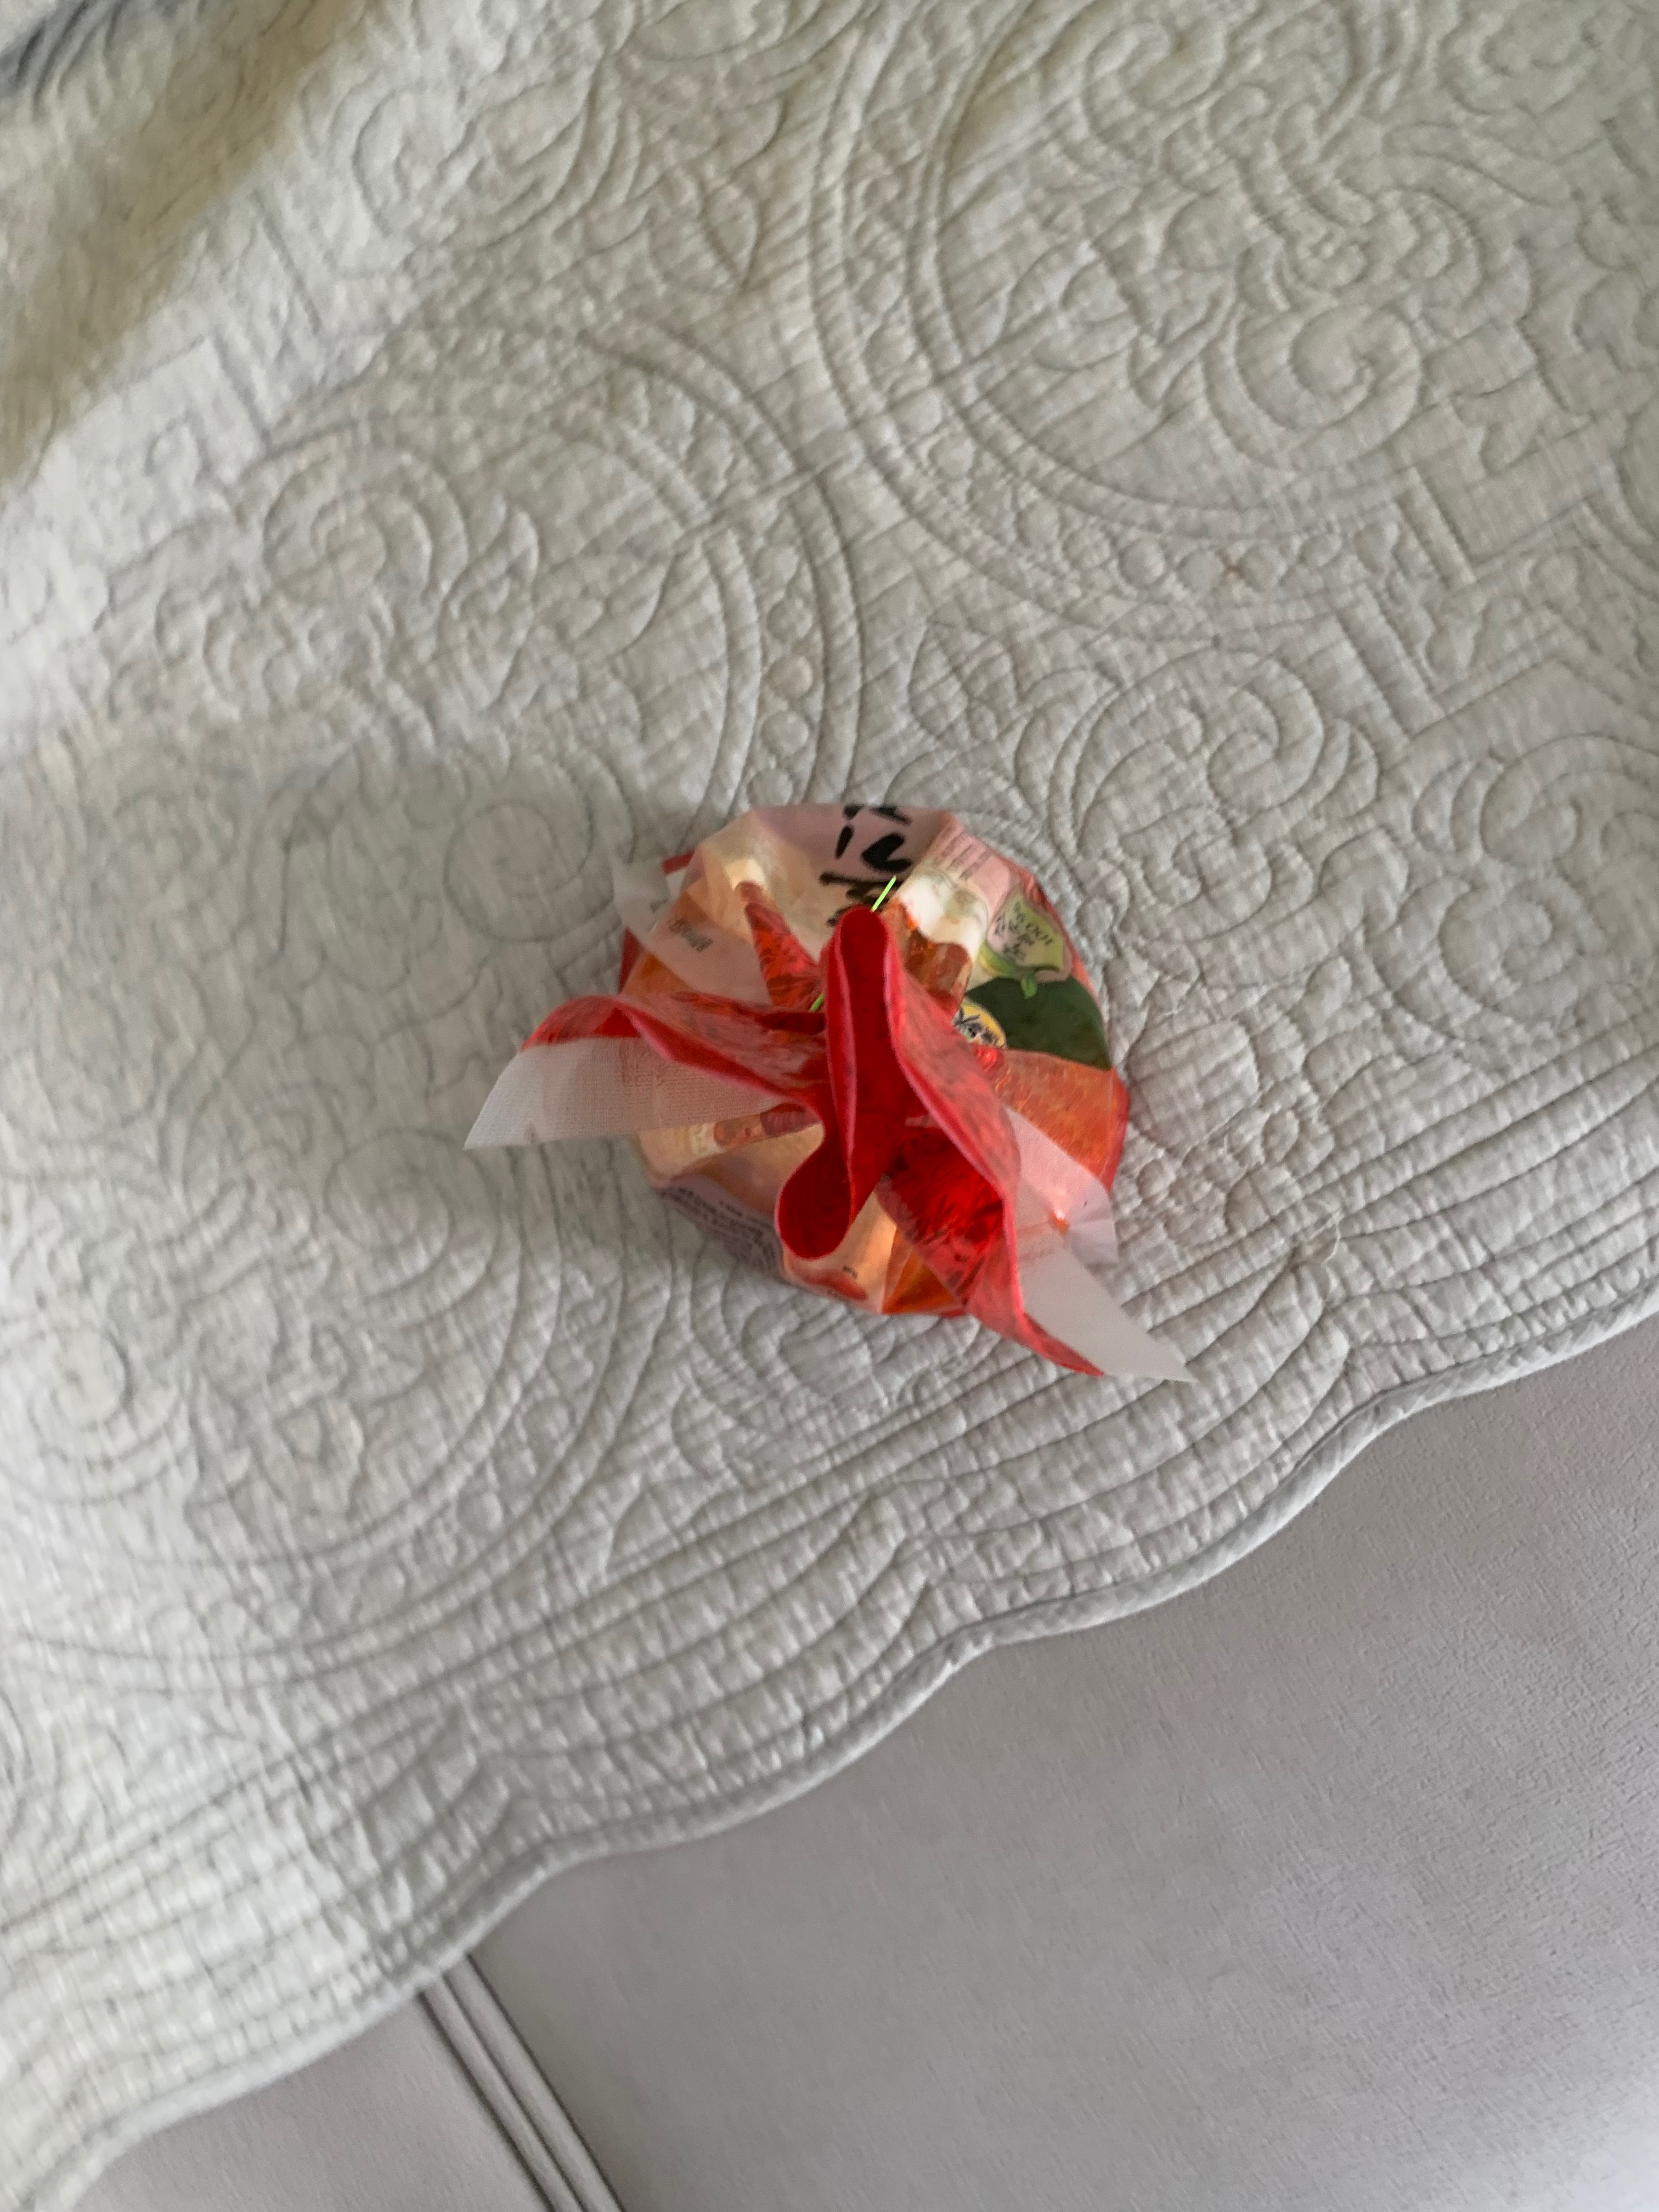kimchi: (613, 801, 1129, 1320)
